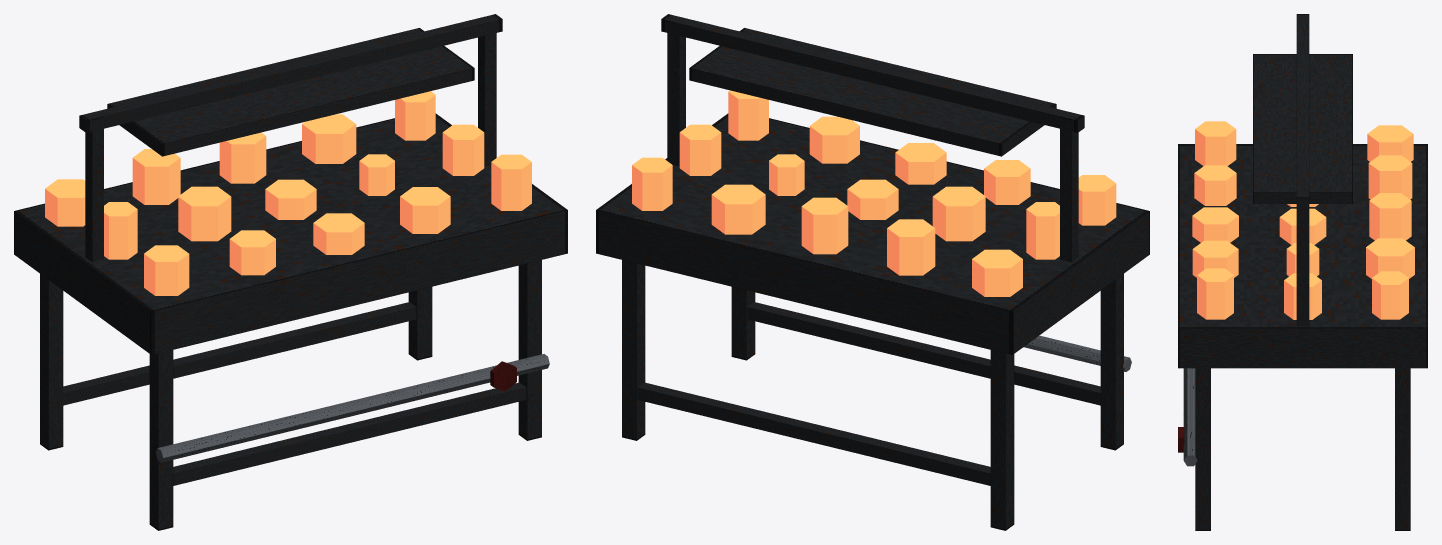
The model's file is hydroponic_tray_bed_industrial_hazard.glb.
3 views of the same model, side by side, from view 1: azimuth 30°, elevation 25°; view 2: azimuth 150°, elevation 25°; view 3: azimuth 270°, elevation 25° (orthographic). The views are drawn at different scales.
Visible parts, largest first — view 1: hydroponic_tray_bed_industrial_hazard; view 2: hydroponic_tray_bed_industrial_hazard; view 3: hydroponic_tray_bed_industrial_hazard.
Part boxes in pixels (<box>): hydroponic_tray_bed_industrial_hazard: <box>14,14,567,530</box>; hydroponic_tray_bed_industrial_hazard: <box>596,14,1149,530</box>; hydroponic_tray_bed_industrial_hazard: <box>1178,14,1427,530</box>.
Size of the model in its own units: 1.4 by 1.2 by 0.8.
6 materials, 6 textured.
